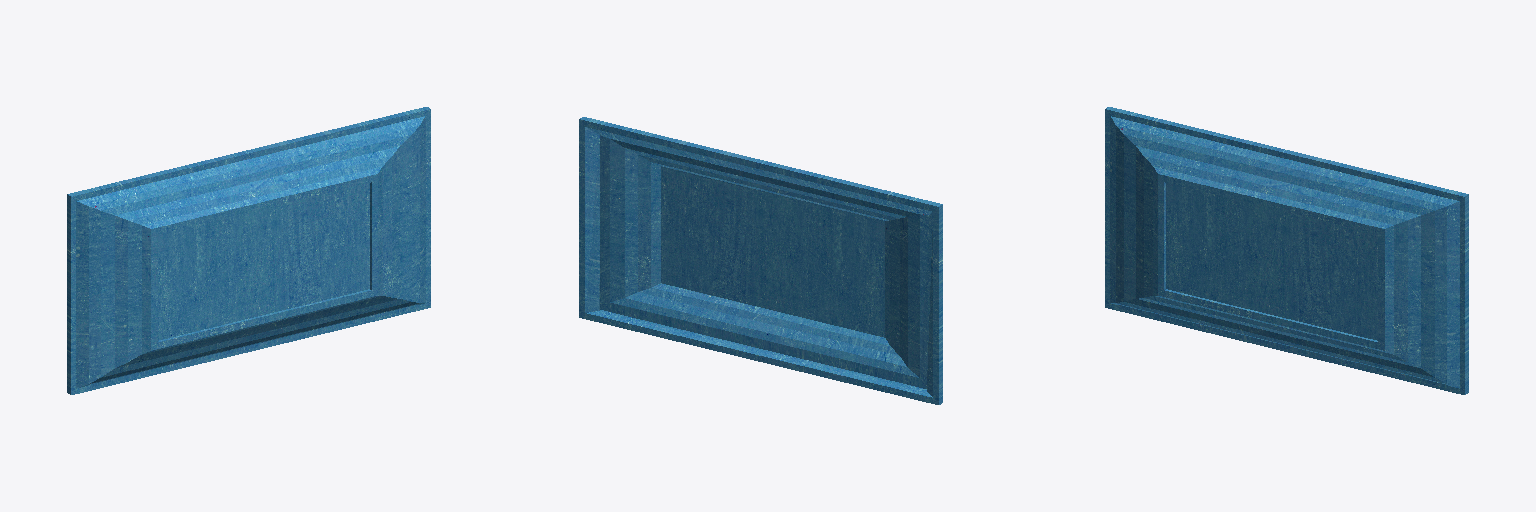
3 renders of one model, left to right at view 1: azimuth 30°, elevation 25°; view 2: azimuth 150°, elevation 25°; view 3: azimuth 330°, elevation 25°, orthographic.
Parts seen in each view (by area): view 1: Cube.010; view 2: Cube.010; view 3: Cube.010.
Boxes of the visible parts, <box> form: Cube.010: <box>67,107,430,394</box>; Cube.010: <box>579,117,942,404</box>; Cube.010: <box>1105,107,1468,394</box>.
Size of the model in its own units: 0.042 by 0.0222 by 0.0035.
Materials: 1 (1 with a texture image).